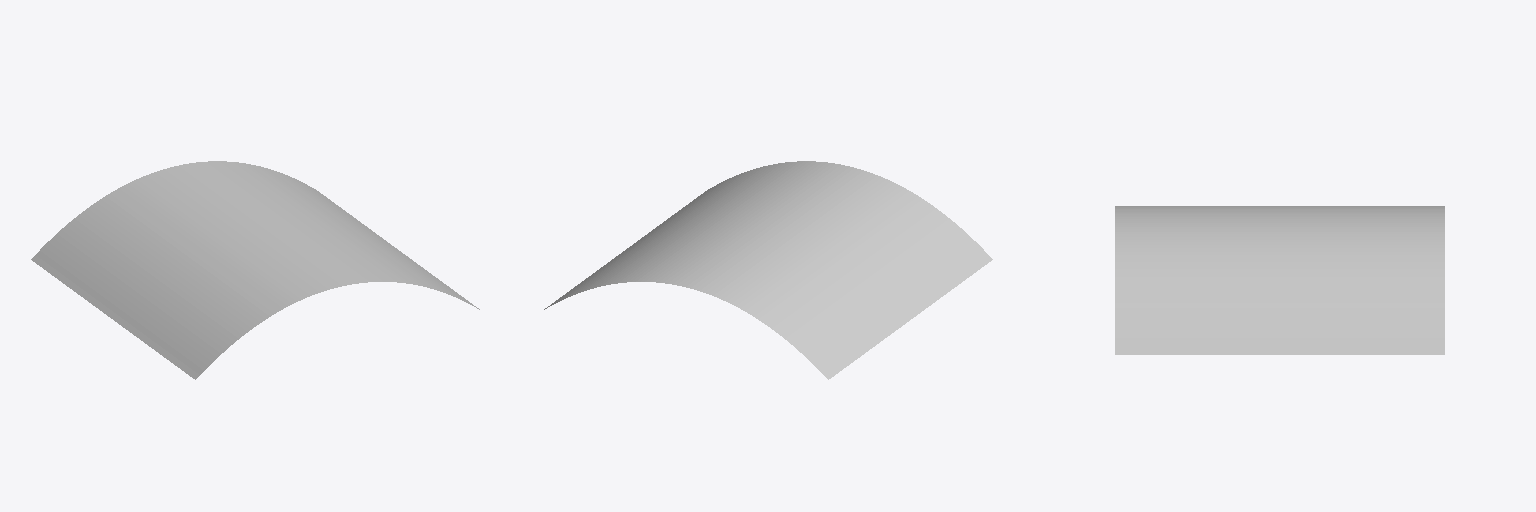
Rendered from Arc.obj.
The picture shows the model from 3 angles: view 1: azimuth 30°, elevation 25°; view 2: azimuth 150°, elevation 25°; view 3: azimuth 270°, elevation 25°; orthographic projection.
Visible parts, largest first — view 1: Plane_Plane.002; view 2: Plane_Plane.002; view 3: Plane_Plane.002.
Part boxes in pixels (bbox=[...]): Plane_Plane.002: bbox=[31, 161, 479, 379]; Plane_Plane.002: bbox=[544, 161, 992, 379]; Plane_Plane.002: bbox=[1115, 206, 1444, 354].
Bounding box in the file's own units: 1 × 0.1942 × 1.